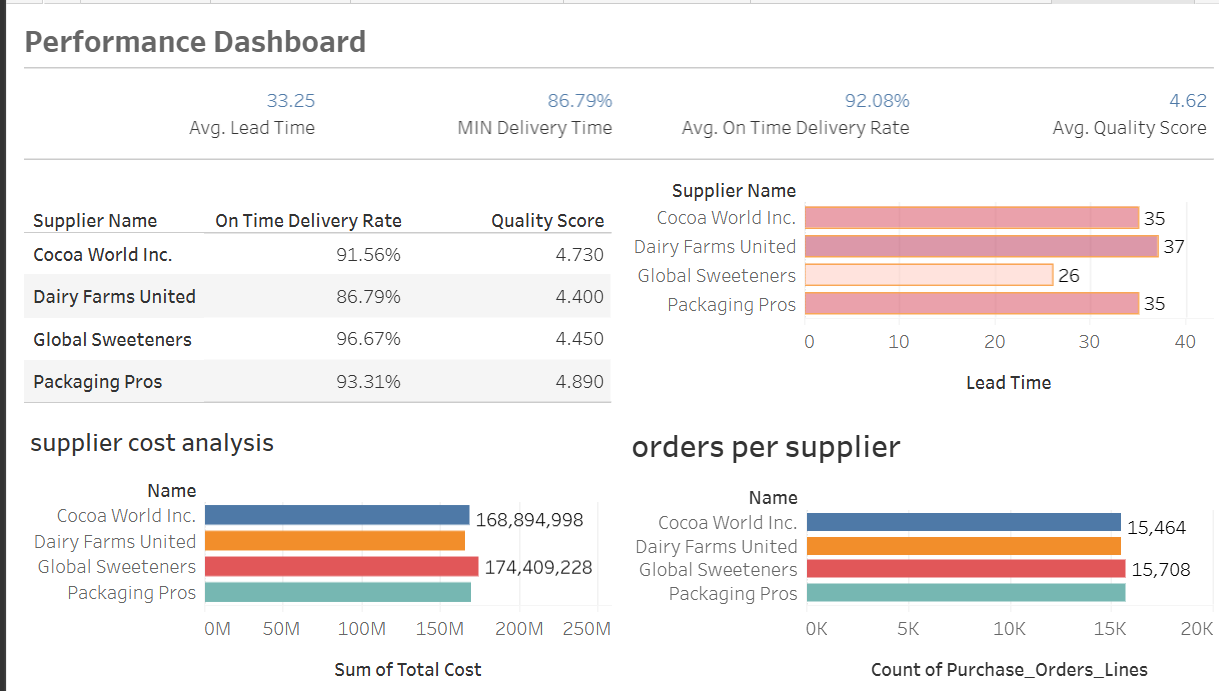

The dashboard page shown, as its layout file describes it:
{"tool":"tableau","page":{"name":"Dashboard 2","canvas":[1000,1000],"units":"permille","ordinal":1},"visuals":[{"type":"text","box":[4.8,9.1,990.4,61.5]},{"type":"worksheet","title":"KPI 3","mark":"Automatic","box":[4.8,70.6,990.4,152.6]},{"type":"worksheet","title":"delivery rate and quality score","mark":"Automatic","rows":["SupplierName"],"box":[4.8,223.2,495.2,351.9]},{"type":"worksheet","title":"average lead time","mark":"Automatic","rows":["SupplierName"],"cols":["AverageLeadTime_Days"],"box":[500,223.2,495.2,351.9]},{"type":"worksheet","title":" suppliers analysis","mark":"Automatic","rows":["name"],"cols":["TotalCost"],"box":[4.8,575.2,495.2,415.7]},{"type":"worksheet","title":"supplier order count","mark":"Automatic","rows":["name"],"cols":["Purchase!Orders!Lines_A02C6EFE160D4DA787405FE8FE152AC7"],"box":[500,575.2,495.2,415.7]}]}

Visuals, with their boxes on the dashboard's canvas, which has no fixed pixel size, in thousandths of its width and height (x1, y1, x2, y2). These are canvas units, not pixel positions in the 1219x691 screenshot, which may show the page scaled, cropped or inside an application window:
text: x1=5 y1=9 x2=995 y2=71
"KPI 3" worksheet: x1=5 y1=71 x2=995 y2=223
"delivery rate and quality score" worksheet: x1=5 y1=223 x2=500 y2=575
"average lead time" worksheet: x1=500 y1=223 x2=995 y2=575
" suppliers analysis" worksheet: x1=5 y1=575 x2=500 y2=991
"supplier order count" worksheet: x1=500 y1=575 x2=995 y2=991
